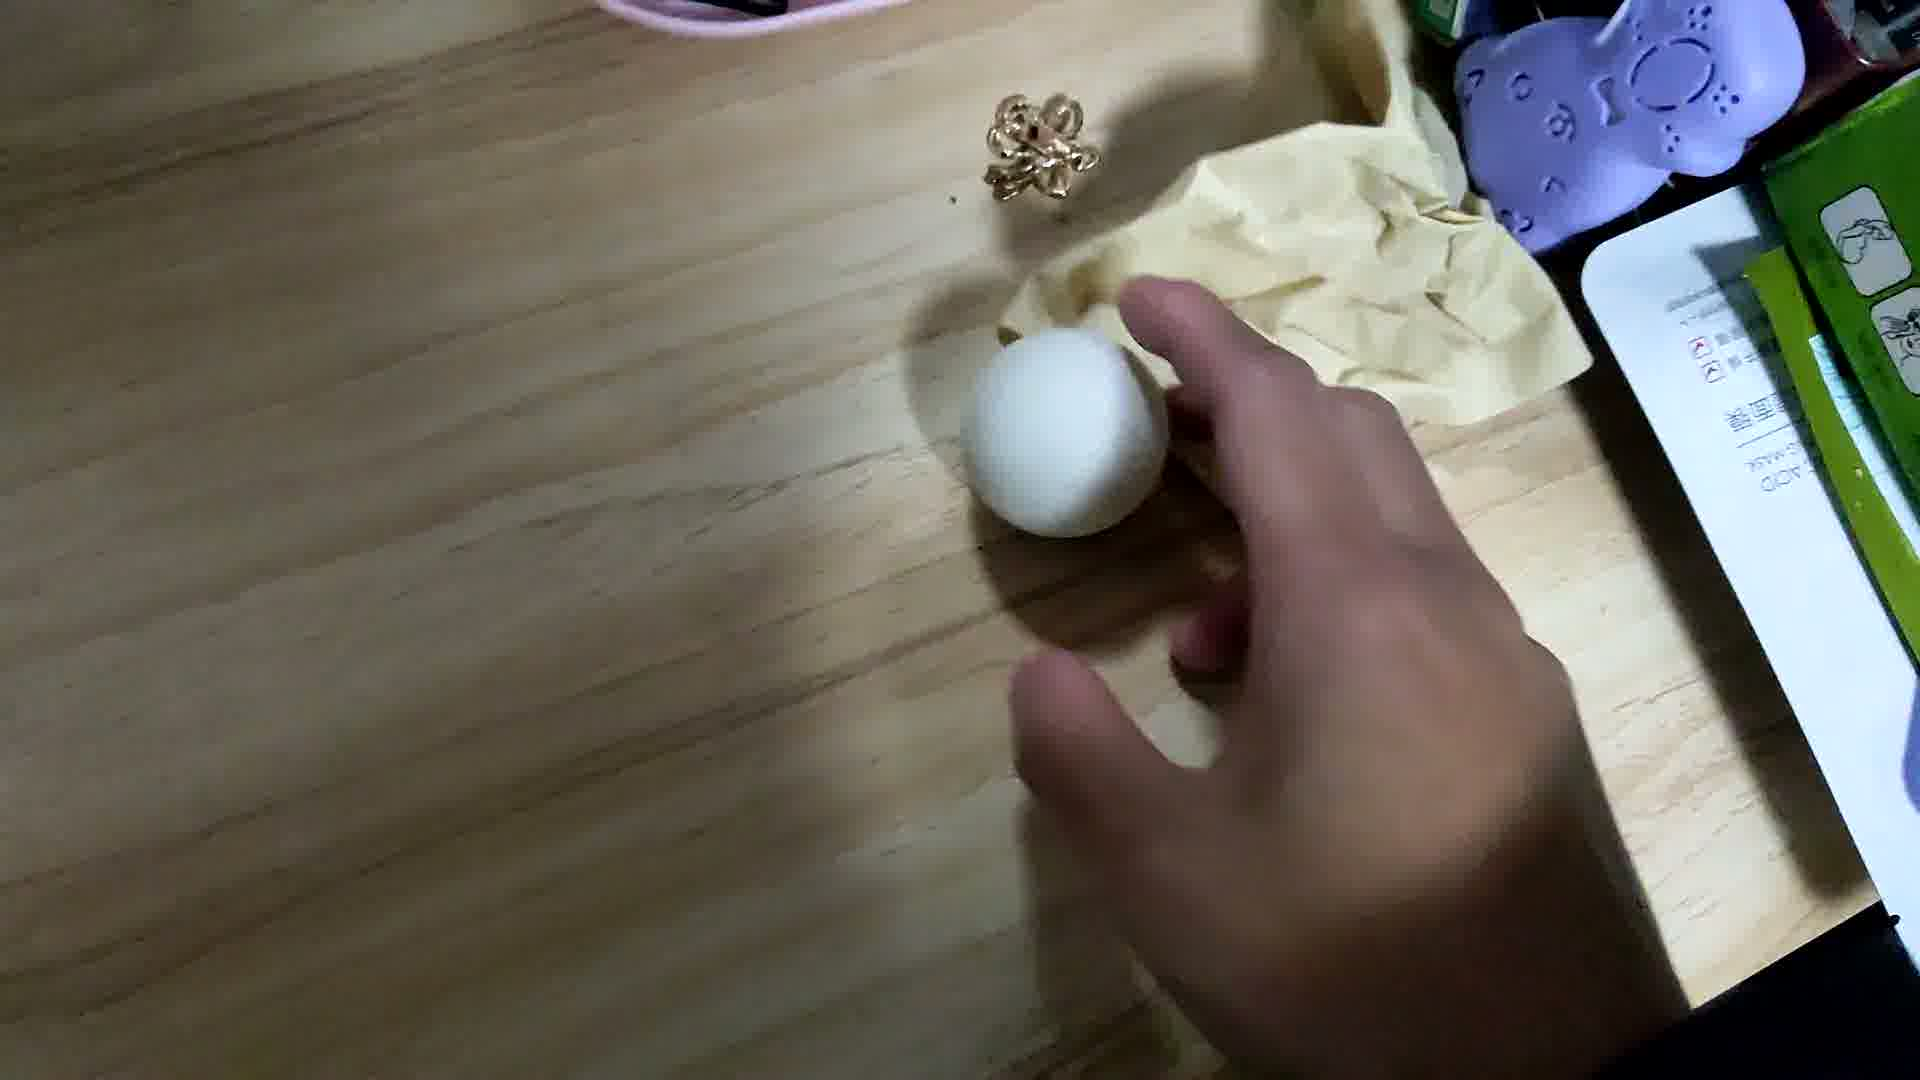Ball: (964, 327, 1164, 537)
